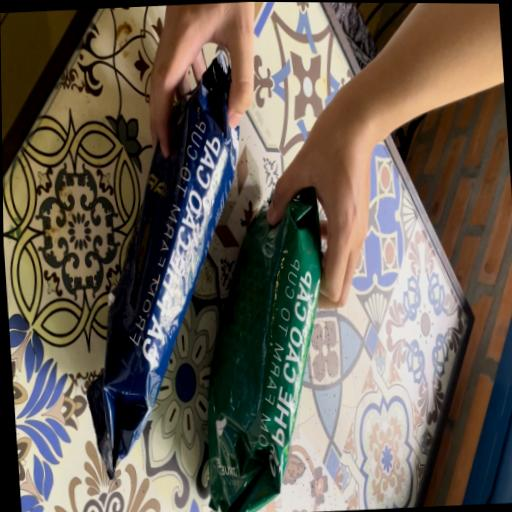cafe_hat: (87, 55, 238, 476)
cafe_xay: (207, 188, 320, 512)
